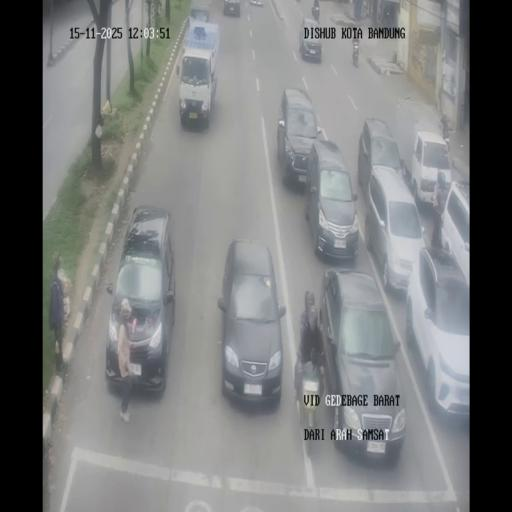car: (320, 270, 402, 461), (105, 206, 176, 393), (218, 239, 286, 407), (406, 242, 469, 422), (366, 165, 425, 294), (306, 138, 359, 264), (277, 88, 320, 187), (300, 16, 322, 62), (189, 6, 210, 24), (223, 0, 240, 17)
motorcycle: (296, 364, 324, 444), (443, 133, 451, 155), (353, 46, 359, 66), (312, 6, 319, 22)
truck: (395, 99, 452, 203), (179, 15, 220, 128)
